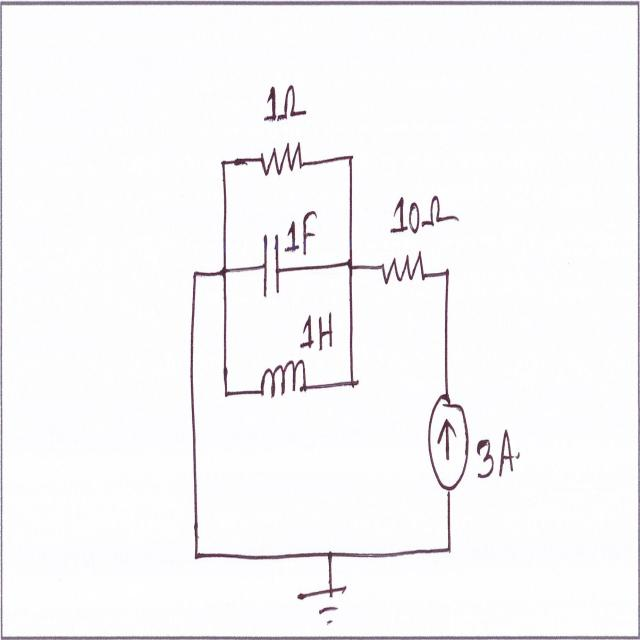capacitor: (258, 225, 284, 307)
current_source: (424, 382, 472, 498)
ground: (292, 574, 352, 634)
inductor: (256, 350, 309, 414)
resistor: (377, 238, 429, 294), (256, 131, 308, 186)
